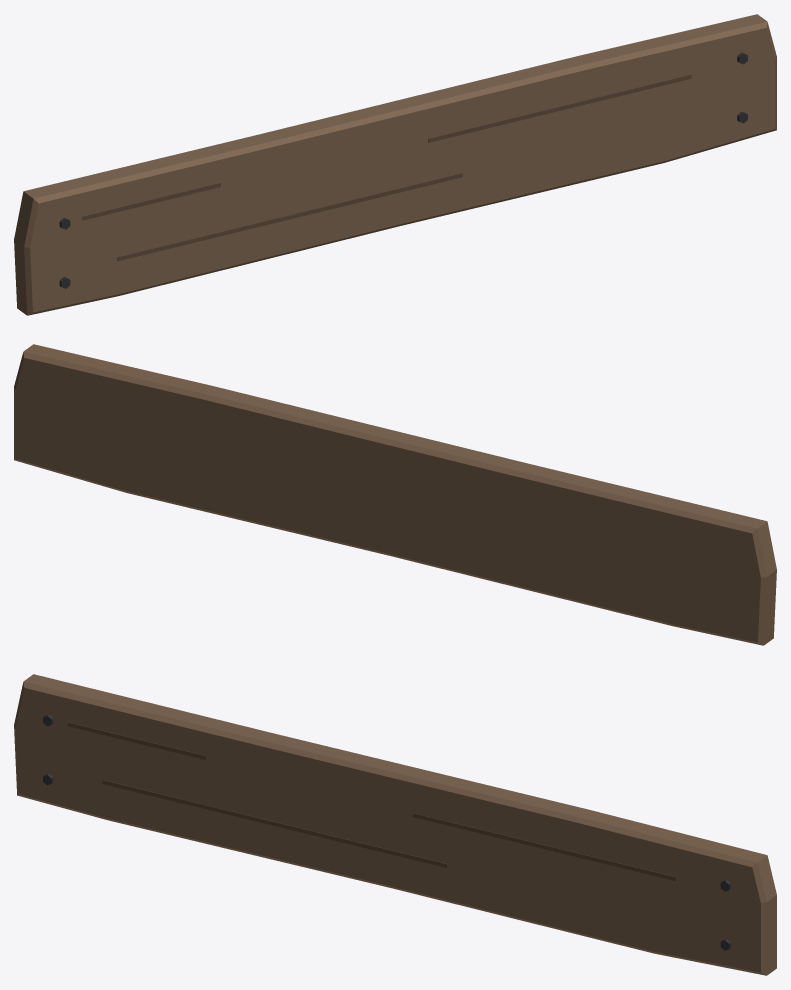
Rendered from plank.glb.
3 renders of one model, top to bottom at view 1: azimuth 30°, elevation 25°; view 2: azimuth 150°, elevation 25°; view 3: azimuth 330°, elevation 25°, orthographic.
Visible parts, largest first — view 1: plank; view 2: plank; view 3: plank.
Part boxes in pixels (x1,y1,x2,y2): plank: [14, 14, 776, 315]; plank: [14, 344, 776, 645]; plank: [14, 674, 776, 975].
Bounding box in the file's own units: 1.2 × 0.18 × 0.046.
